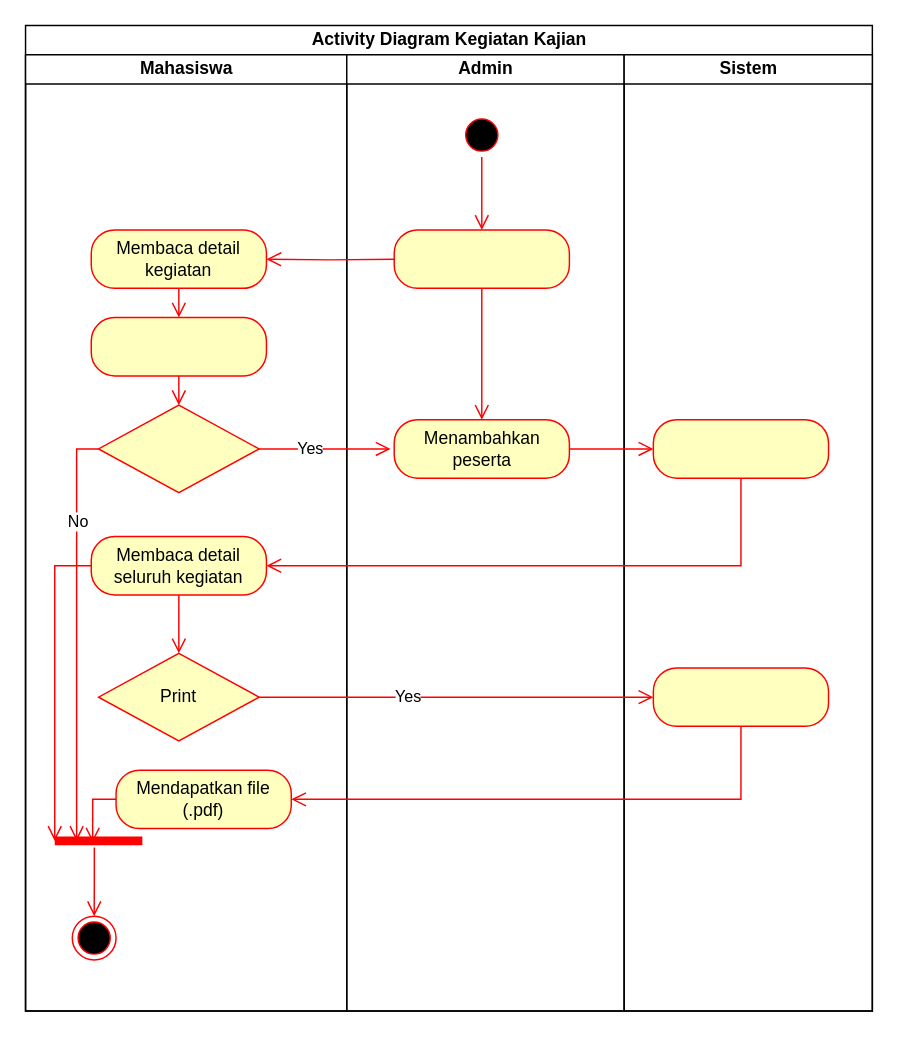
Some shapes in this 898 by 1037 pixel diagram are drawn without their labels. The centre of each missing label's shape, as x and y in pixels:
Melakukan registrasi: (178,346)
Membuat kegiatan: (481,258)
Mengembalikan data berupa file (.pdf): (740,696)
Mengikuti kegiatan: (178,448)
Menyimpan perubahan: (740,448)
